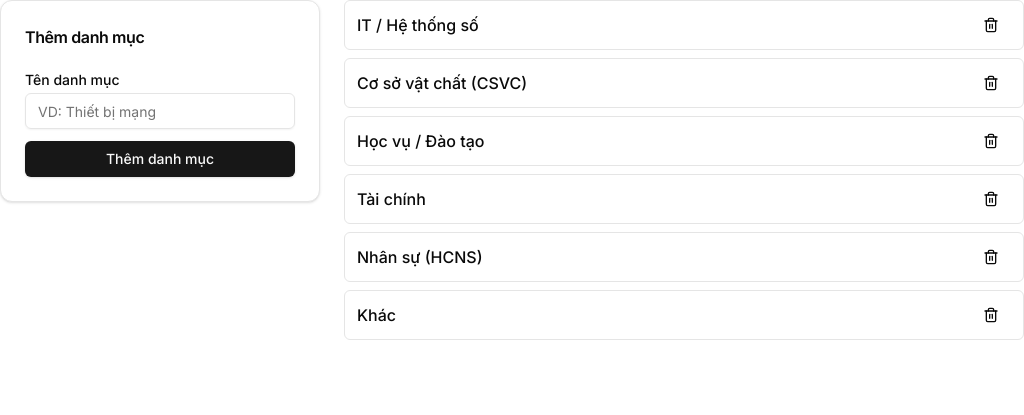
Test: CategoryManager (S8) › S8-H1: adding a category posts it and shows it in the list
Expected: the text "IT / Hệ thống số" is shown, [357,13,479,37]
Type "Thiết bị mạng" into the field labelled "Tên danh mục" at coordinates (160, 111), box [25,93,295,129]
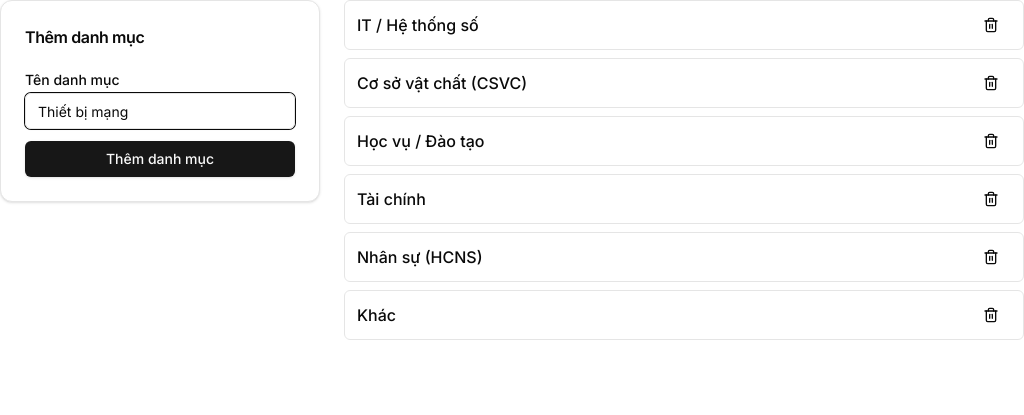
Click the button "Thêm danh mục" at coordinates (160, 159), box [25,141,295,177]
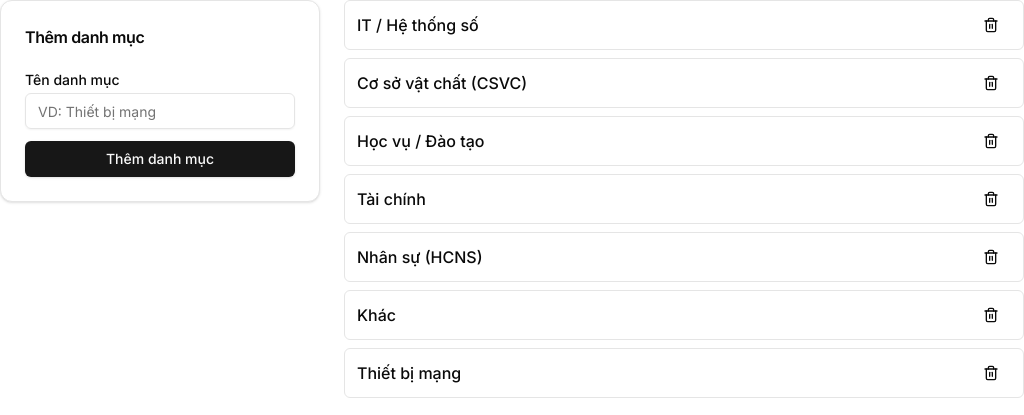
Result: the text "Thiết bị mạng" is shown at [357,361,461,385]
